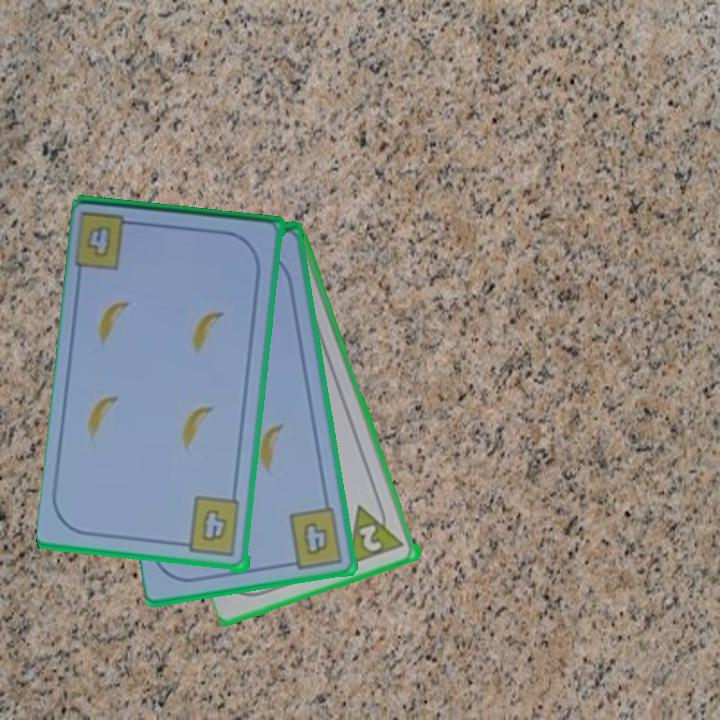2p: (356, 521, 386, 555)
4b: (74, 209, 144, 274), (177, 494, 244, 560), (282, 504, 347, 572)
